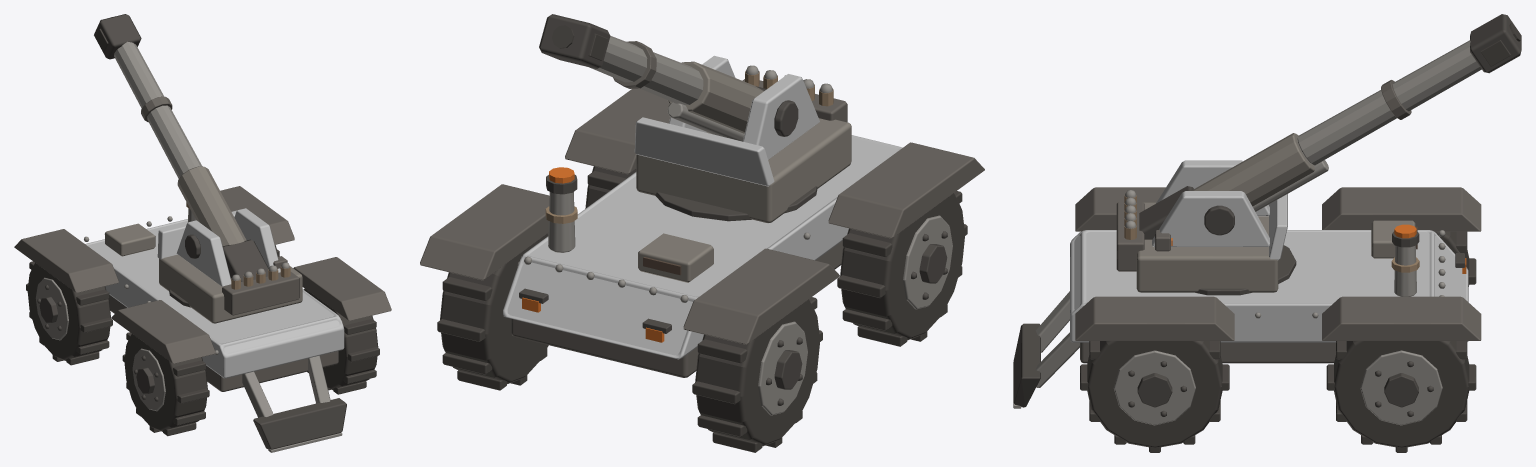
The model's file is crucible_artillery_vehicle.glb.
3 renders of one model, left to right at view 1: azimuth 30°, elevation 25°; view 2: azimuth 150°, elevation 25°; view 3: azimuth 270°, elevation 25°, orthographic. The views are drawn at different scales.
Visible parts, largest first — view 1: Body, Turret; view 2: Body, Turret; view 3: Body, Turret.
Part boxes in pixels (x1,y1,x2,y2): Body: (14,186,391,452); Turret: (94,14,302,323); Body: (420,88,984,452); Turret: (539,14,851,223); Body: (1013,187,1481,452); Turret: (1116,14,1521,292).
Size of the model in its own units: 1.6 by 2.02 by 2.51.
